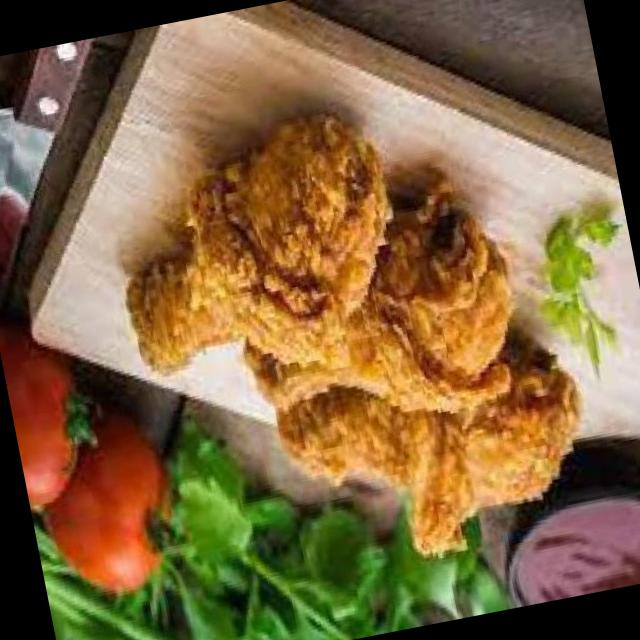Fried Chicken: (125, 109, 581, 553)
